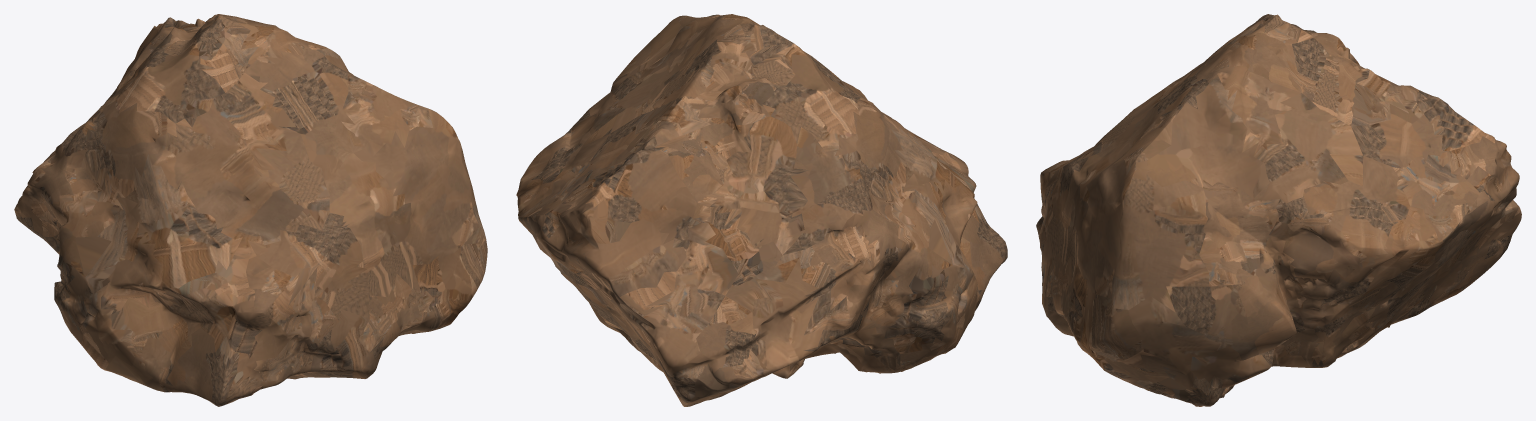
File: SM_LoneBoulder_BlenderOptimized.fbx
The picture shows the model from 3 angles, left to right: view 1: azimuth 30°, elevation 25°; view 2: azimuth 150°, elevation 25°; view 3: azimuth 270°, elevation 25°; orthographic projection. The views are drawn at different scales.
Visible parts, largest first — view 1: Mesh_0; view 2: Mesh_0; view 3: Mesh_0.
Part boxes in pixels (x1,y1,x2,y2): Mesh_0: (14,14,487,406); Mesh_0: (516,14,1007,406); Mesh_0: (1036,14,1521,406).
Size of the model in its own units: 1.68 by 1.36 by 1.9.
